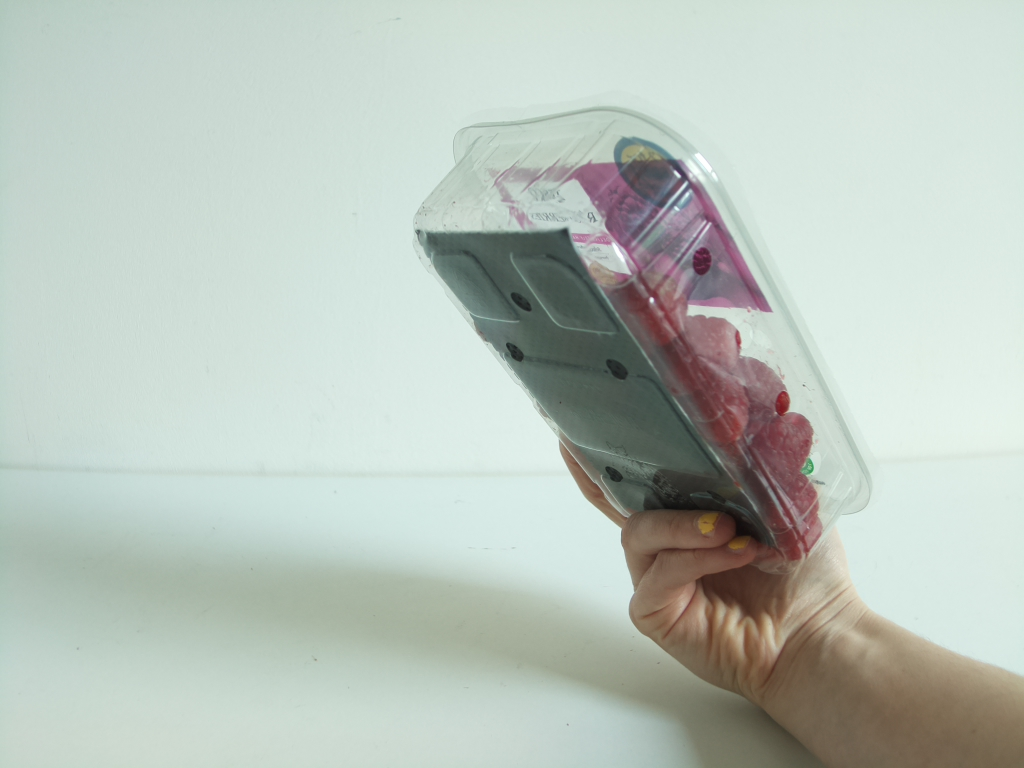soft-fruit: (412, 112, 875, 563)
